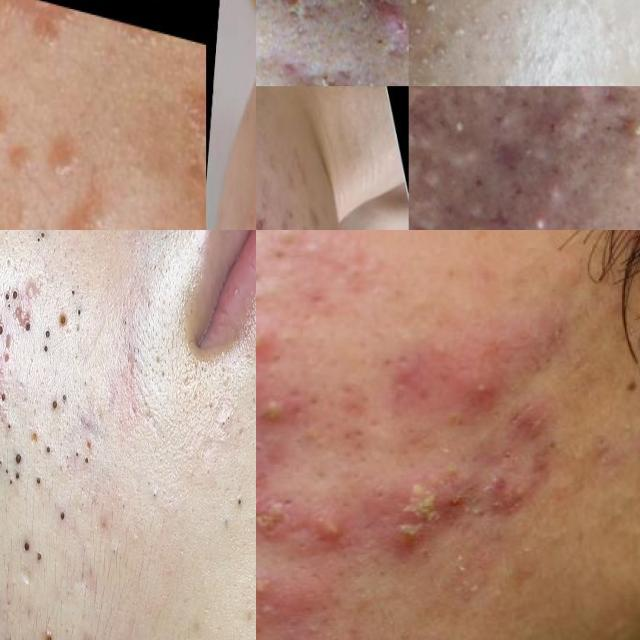acne_scars: (293, 45, 355, 86), (256, 65, 284, 86)
comedone: (408, 0, 494, 86), (418, 0, 531, 30), (440, 122, 484, 176), (506, 187, 560, 230), (603, 142, 640, 199), (441, 202, 496, 230), (409, 86, 420, 121), (2, 290, 14, 305), (23, 321, 35, 335), (22, 539, 31, 557), (50, 395, 59, 413), (35, 551, 44, 568), (39, 230, 49, 245), (15, 451, 23, 469), (43, 326, 54, 339), (41, 342, 52, 355), (33, 477, 44, 490), (12, 286, 20, 303), (44, 442, 53, 457), (0, 392, 8, 407), (58, 512, 66, 527), (0, 322, 5, 338)
crystanlline: (373, 464, 472, 562), (256, 504, 340, 555)
flat_wart: (0, 0, 75, 71), (40, 179, 122, 230), (37, 119, 93, 192)
papule: (444, 356, 528, 426), (484, 115, 548, 187), (565, 86, 602, 105), (256, 205, 275, 230)
pustule: (262, 406, 298, 436), (256, 566, 279, 602), (256, 328, 279, 357)
sebo-crystan-conglo: (361, 0, 408, 49)
